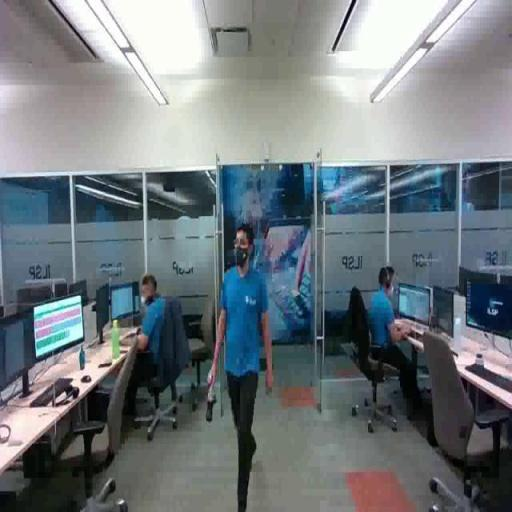person: (207, 223, 277, 512), (356, 258, 432, 418), (126, 271, 185, 428)
